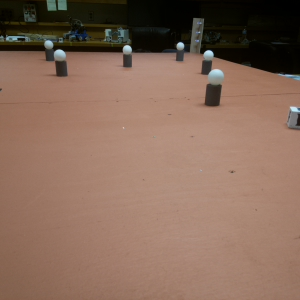obstacle: (205, 69, 223, 110), (55, 48, 68, 78), (202, 50, 213, 75), (122, 43, 133, 67), (44, 41, 55, 60), (176, 40, 184, 60)
